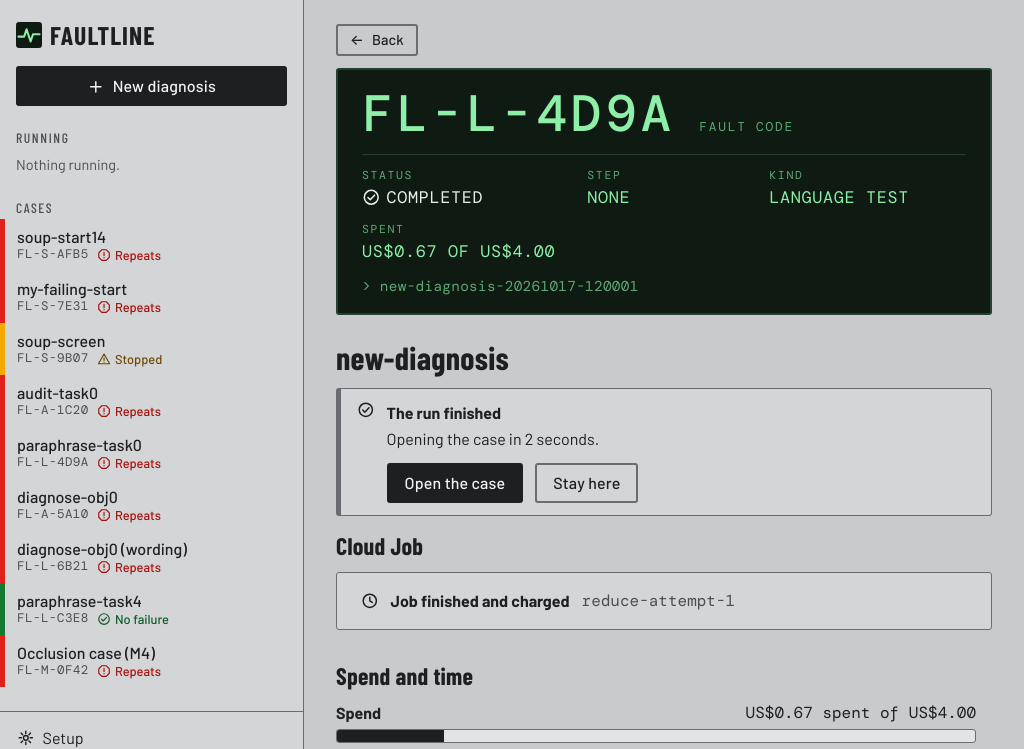
Test: watching a run › lets the person stay on the run page
userEvent waits on timers, so click through the DOM directly.
Click the button "Stay here" at (587, 483), box 535,463 -> 638,503
Wait 10000 ms
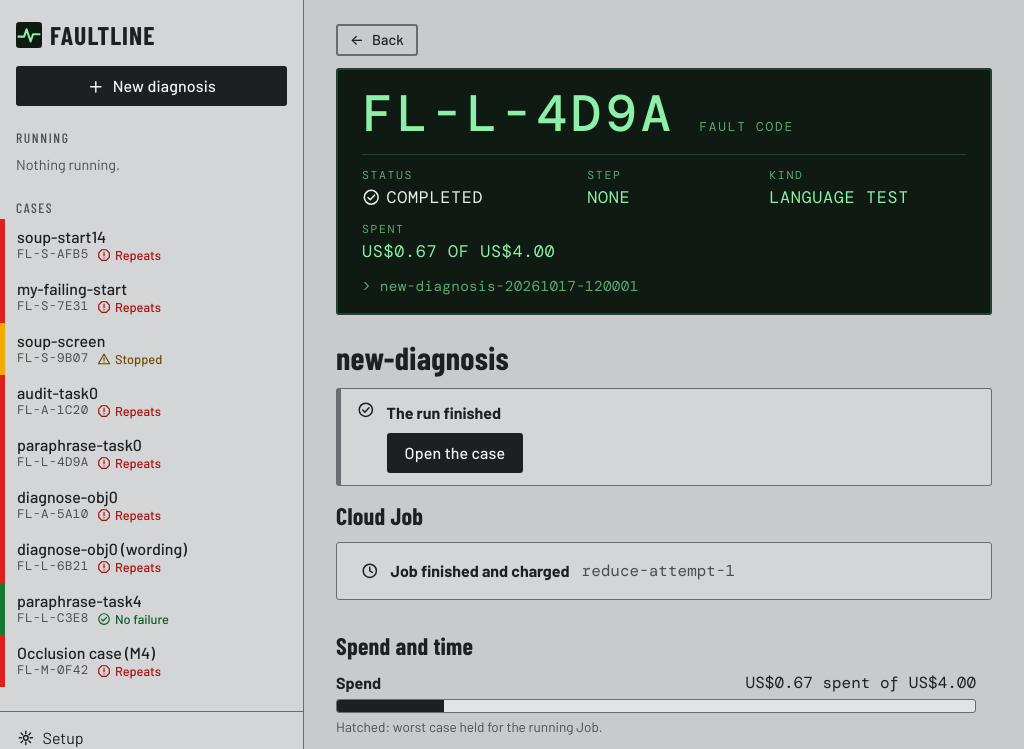
expect the link "Open the case" is shown: met, box 387,433 -> 523,473
expect the text "Opening the case in" is gone: met
